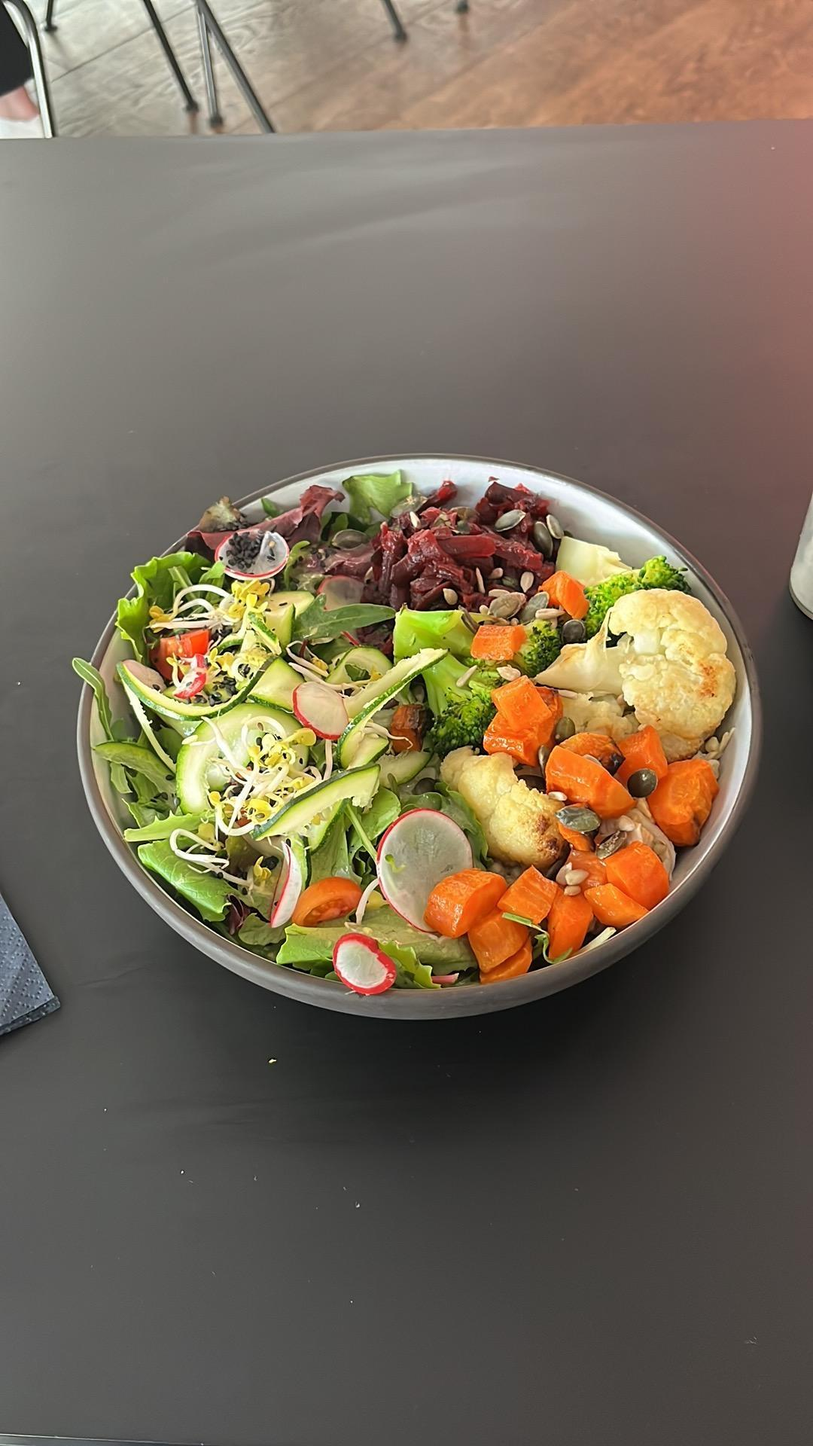broccoli: (429, 641, 517, 744), (581, 552, 688, 620), (519, 612, 561, 667)
carrot: (542, 743, 630, 811), (425, 861, 512, 929), (486, 678, 556, 757), (651, 755, 713, 844), (597, 837, 668, 914), (548, 871, 601, 962), (464, 911, 534, 975), (614, 721, 675, 779), (498, 866, 554, 917), (472, 621, 518, 657)
cauliflower: (542, 585, 742, 742), (434, 739, 568, 863)
lettuce: (134, 803, 270, 940), (72, 658, 182, 806), (116, 552, 218, 635), (292, 595, 401, 648), (344, 472, 412, 528)
radish: (378, 801, 477, 932), (333, 927, 396, 996), (216, 522, 290, 577), (291, 680, 353, 735), (269, 849, 303, 932)
tomato: (294, 871, 361, 923), (146, 622, 212, 672)
vegetable marrow: (339, 644, 446, 760), (253, 766, 384, 836)
